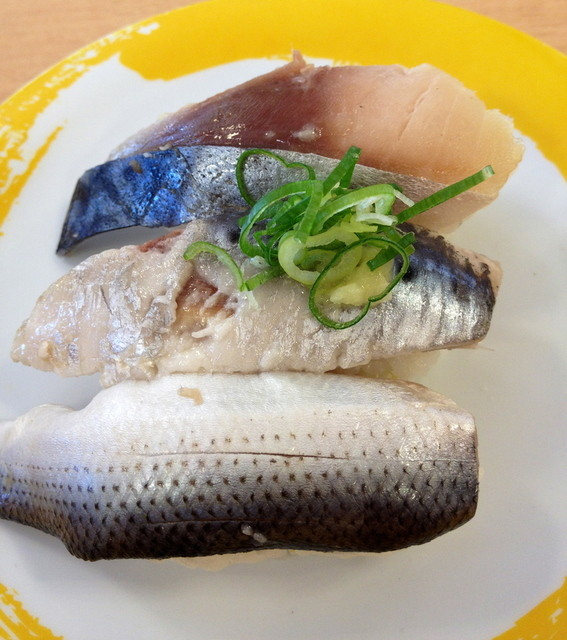spotted-shad: (1, 370, 483, 572)
